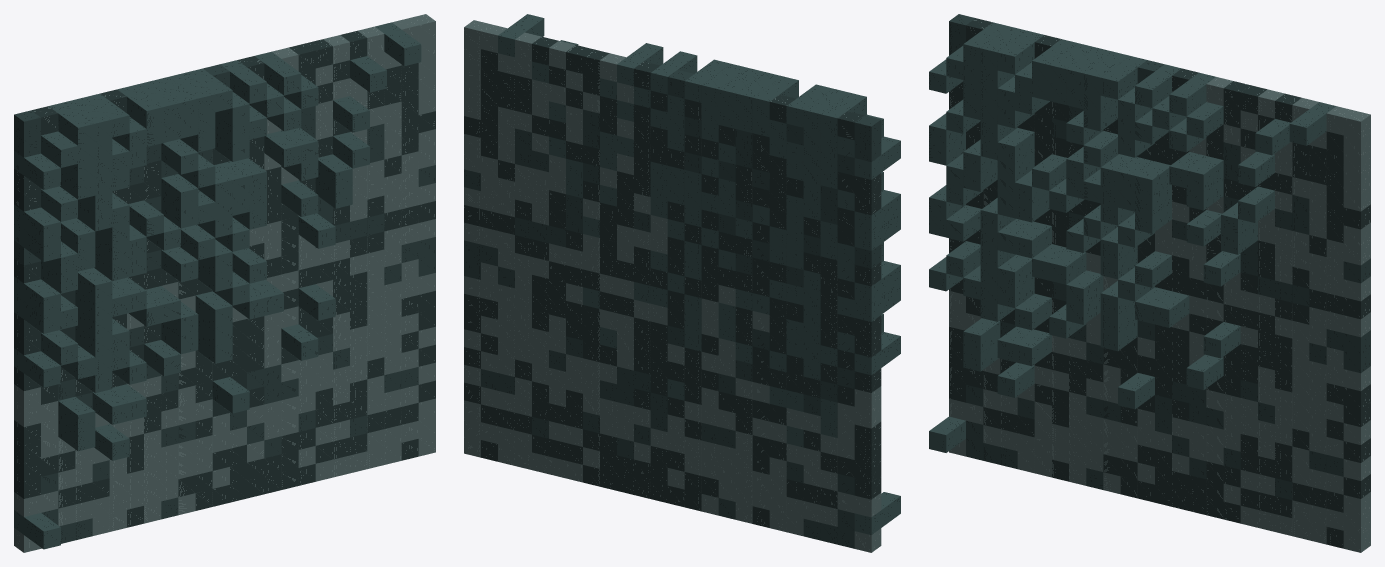
3 renders of one model, left to right at view 1: azimuth 30°, elevation 25°; view 2: azimuth 150°, elevation 25°; view 3: azimuth 330°, elevation 25°, orthographic.
Size of the model in its own units: 2.4 by 2.4 by 0.3.
